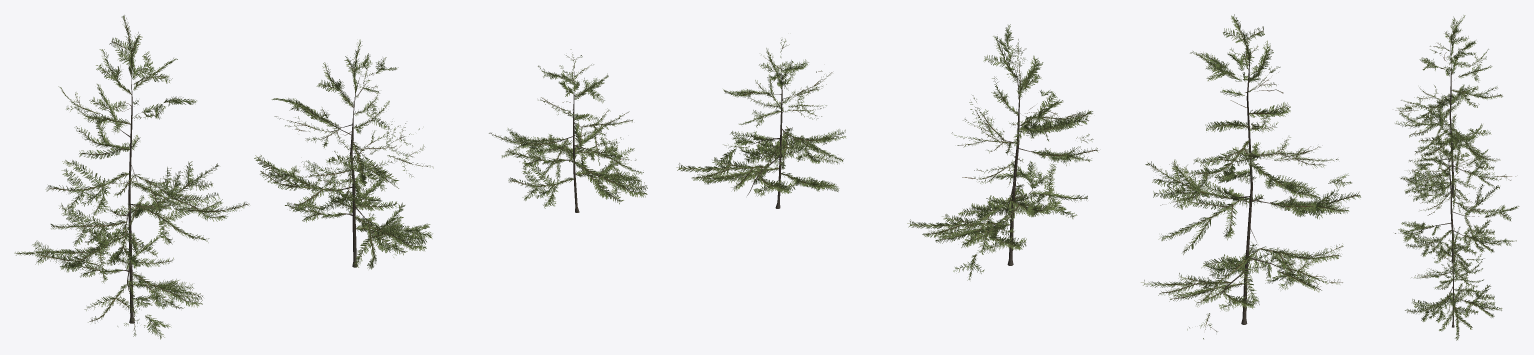
Rendered from fir_sapling.glb.
3 renders of one model, left to right at view 1: azimuth 30°, elevation 25°; view 2: azimuth 150°, elevation 25°; view 3: azimuth 270°, elevation 25°, orthographic. The views are drawn at different scales.
Parts seen in each view (by area): view 1: fir_sapling_a, fir_sapling_b, fir_sapling_c; view 2: fir_sapling_a, fir_sapling_b, fir_sapling_c; view 3: fir_sapling_a, fir_sapling_b, fir_sapling_c.
Boxes of the visible parts, bbox=[...] form: fir_sapling_a: bbox=[14, 15, 249, 339]; fir_sapling_b: bbox=[254, 39, 433, 269]; fir_sapling_c: bbox=[489, 49, 647, 212]; fir_sapling_a: bbox=[1141, 14, 1360, 339]; fir_sapling_b: bbox=[907, 24, 1098, 280]; fir_sapling_c: bbox=[676, 39, 845, 208]; fir_sapling_a: bbox=[1395, 15, 1515, 211]; fir_sapling_b: bbox=[1395, 129, 1519, 276]; fir_sapling_c: bbox=[1405, 227, 1502, 340].
Bounding box in the file's own units: 2.74 × 1.3 × 0.824.
Materials: 2 (2 with a texture image).
